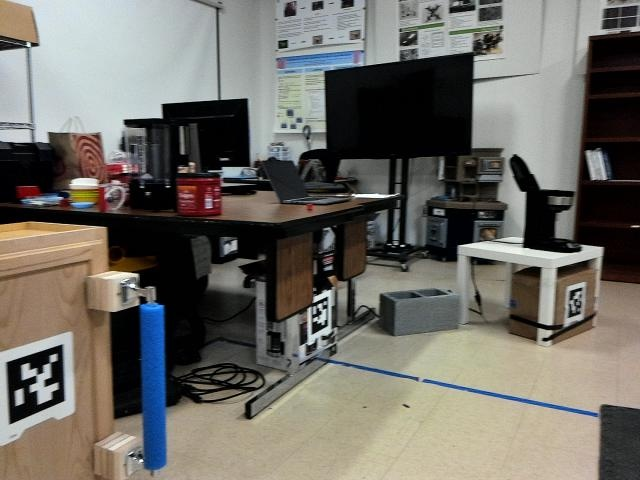noodle_handle: (137, 290, 175, 469)
